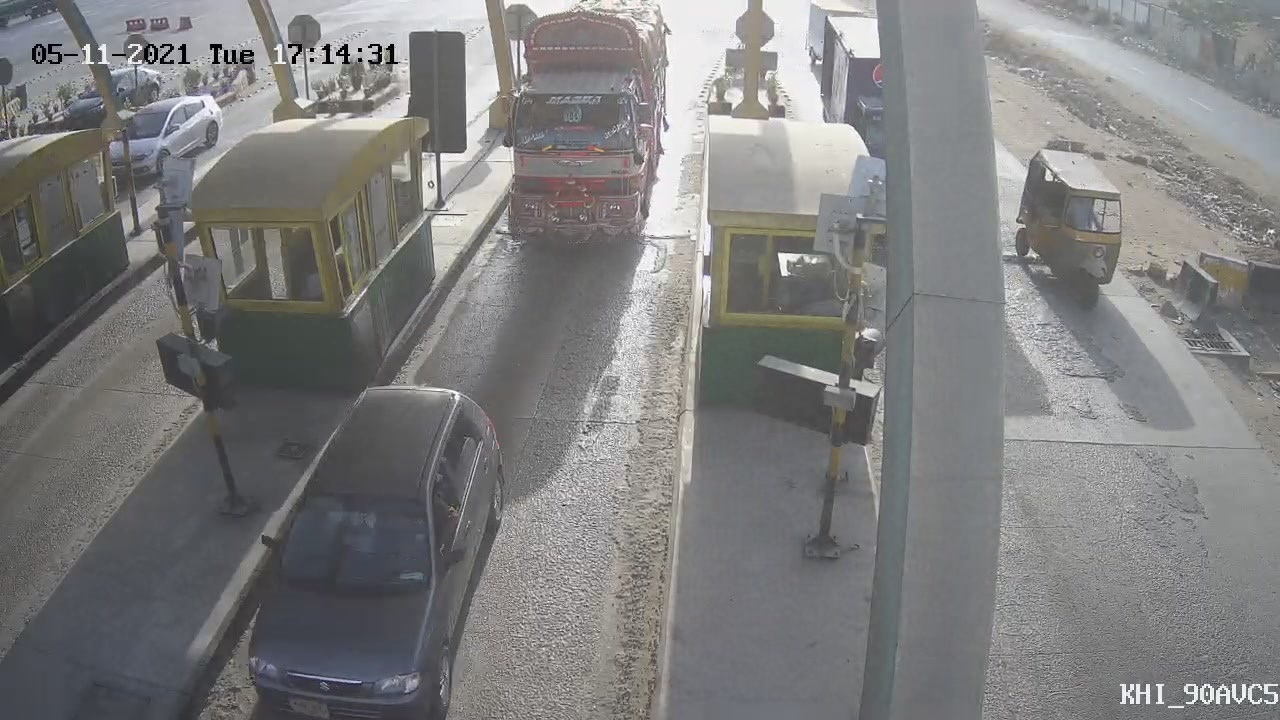F5: (479, 1, 687, 274)
